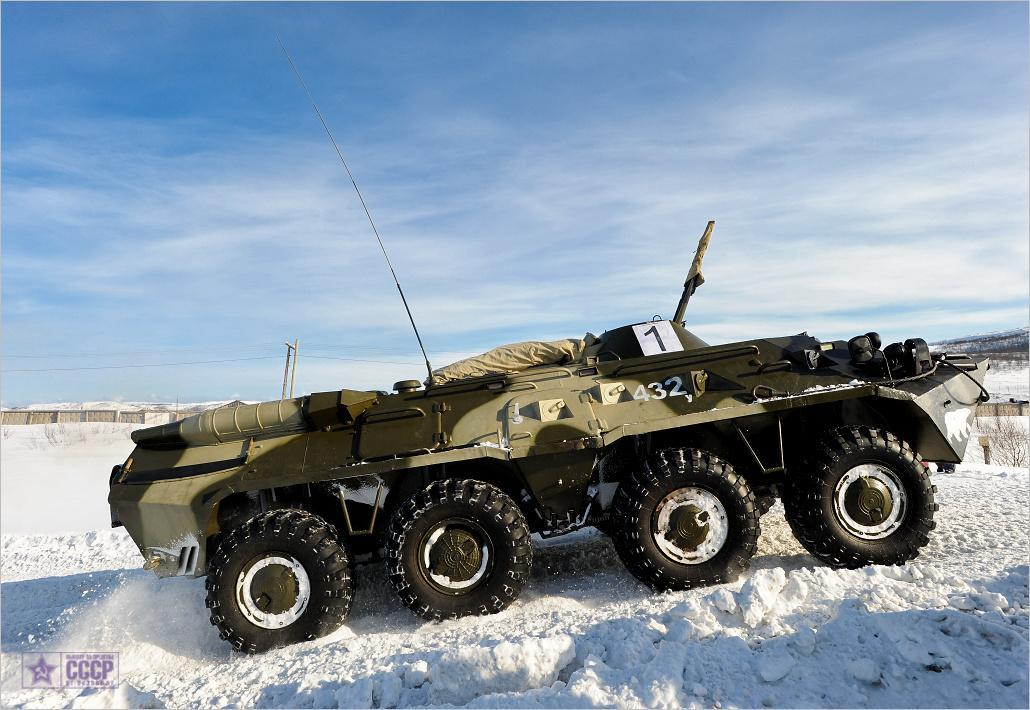tank: (106, 219, 993, 657)
